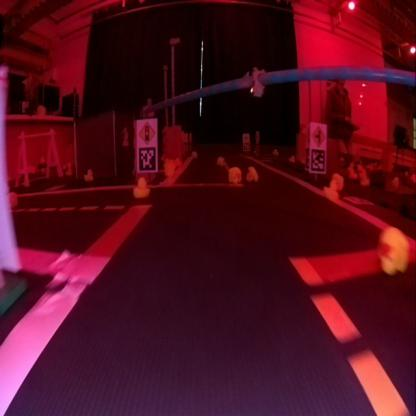Duckie: (378, 226, 408, 273), (132, 178, 148, 198), (323, 181, 339, 199), (226, 167, 241, 183), (245, 165, 258, 183), (332, 174, 343, 190), (164, 159, 174, 176), (83, 169, 93, 181), (359, 176, 369, 185), (216, 157, 224, 165), (289, 154, 293, 162)
Intersection sign: (312, 126, 324, 146)
QR code: (138, 146, 155, 169), (311, 149, 324, 170), (305, 147, 310, 168)
Signal sign: (138, 122, 154, 144)
Traffic light: (250, 68, 266, 97)
